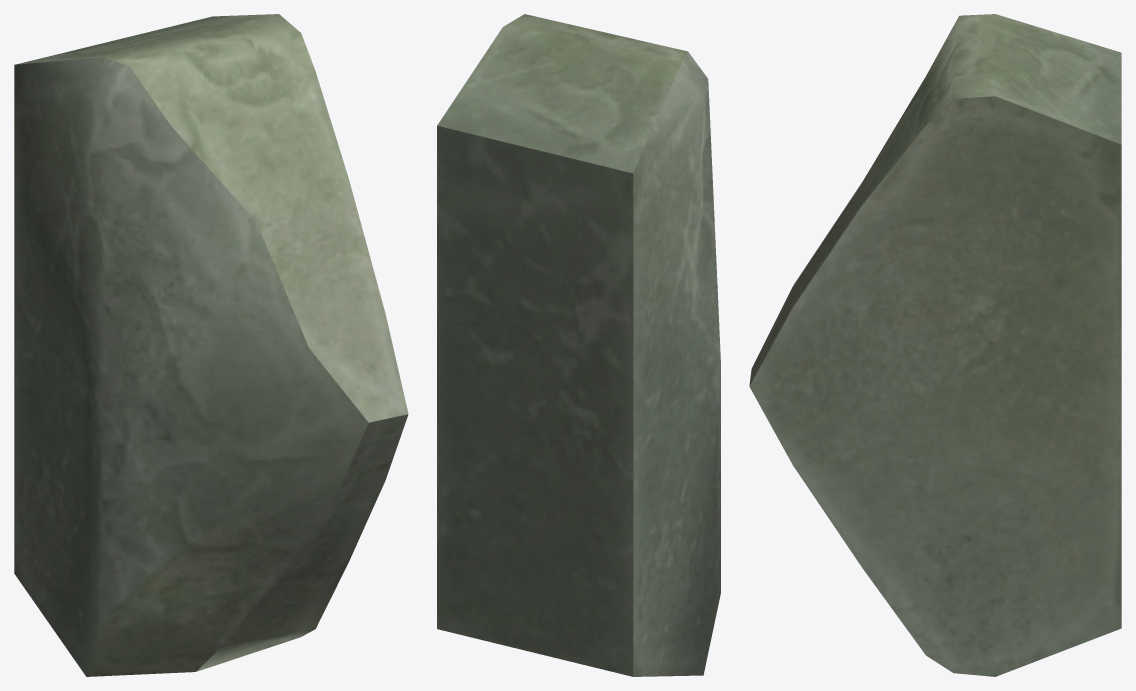
File: Ruins_Trim_Cap_DMG_1M_A.fbx
3 views of the same model, side by side, from view 1: azimuth 30°, elevation 25°; view 2: azimuth 150°, elevation 25°; view 3: azimuth 270°, elevation 25° (orthographic). The views are drawn at different scales.
Parts seen in each view (by area): view 1: Ruins_Trim_Cap_DMG_1M_A; view 2: Ruins_Trim_Cap_DMG_1M_A; view 3: Ruins_Trim_Cap_DMG_1M_A.
Part boxes in pixels (bbox=[...]): Ruins_Trim_Cap_DMG_1M_A: bbox=[14, 14, 408, 676]; Ruins_Trim_Cap_DMG_1M_A: bbox=[437, 14, 720, 676]; Ruins_Trim_Cap_DMG_1M_A: bbox=[749, 14, 1121, 676].
Bounding box in the file's own units: 102 × 304 × 174.
